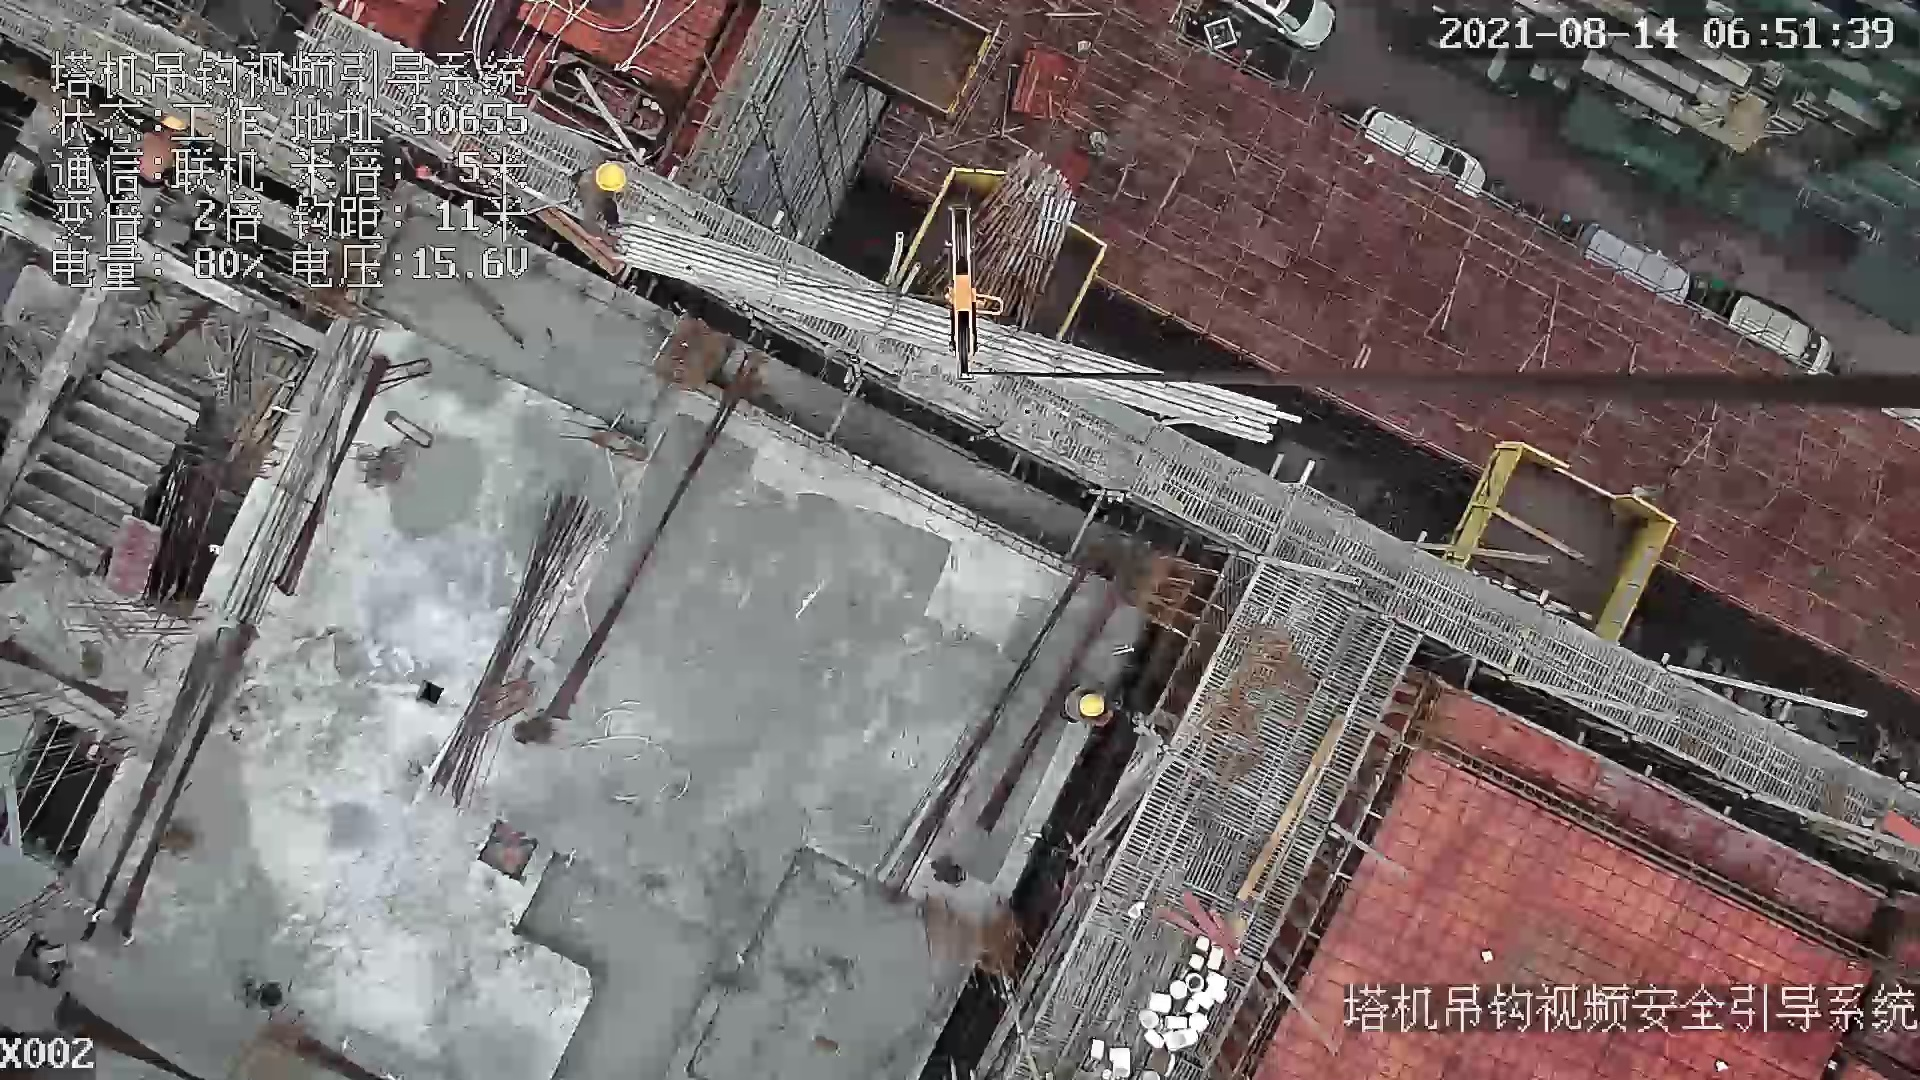helmet: (596, 162, 627, 193), (1077, 692, 1109, 719)
hook: (942, 201, 1012, 381)
person: (565, 149, 635, 256), (1055, 676, 1129, 733)
rebar: (615, 221, 1303, 446), (417, 492, 604, 811)
scaffold: (975, 149, 1074, 329)
